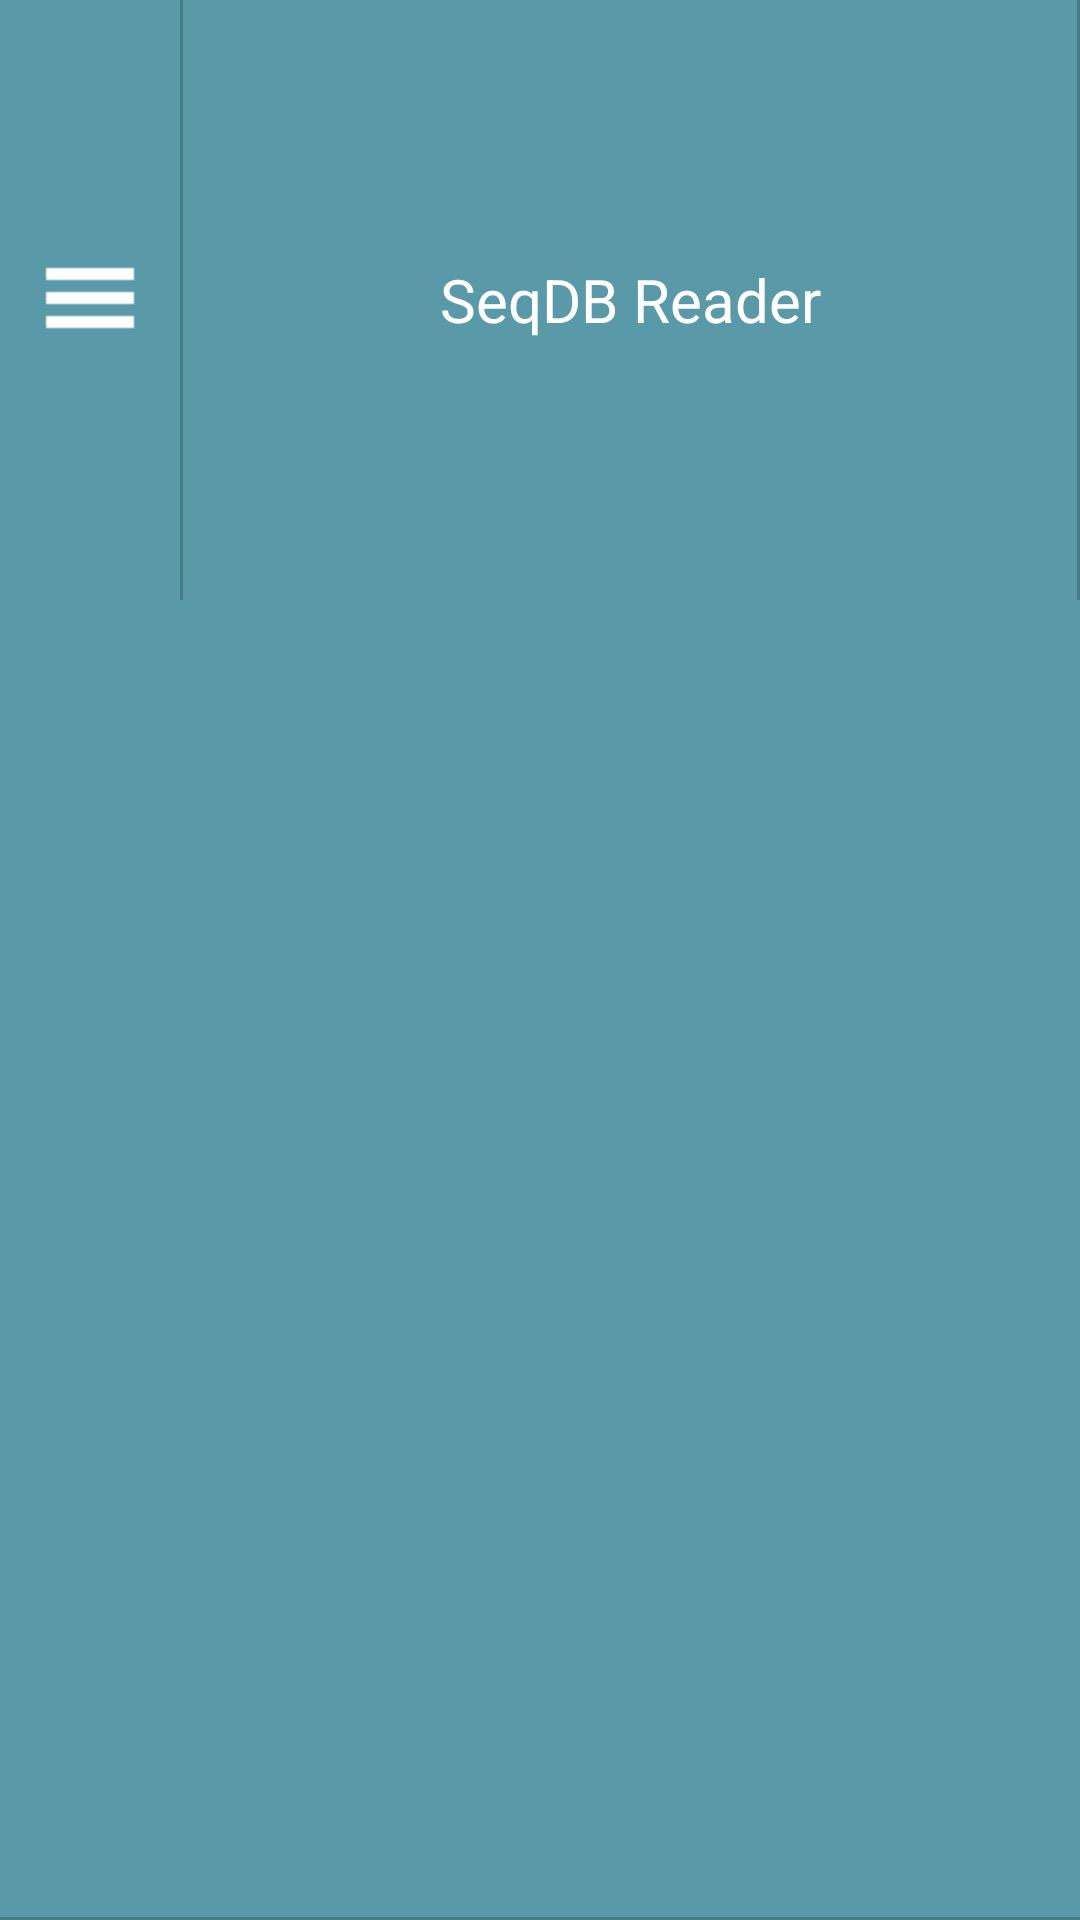

Named icons in this screenshot (1080×1920) and their centers, [x,y]:
list: [90,298]
